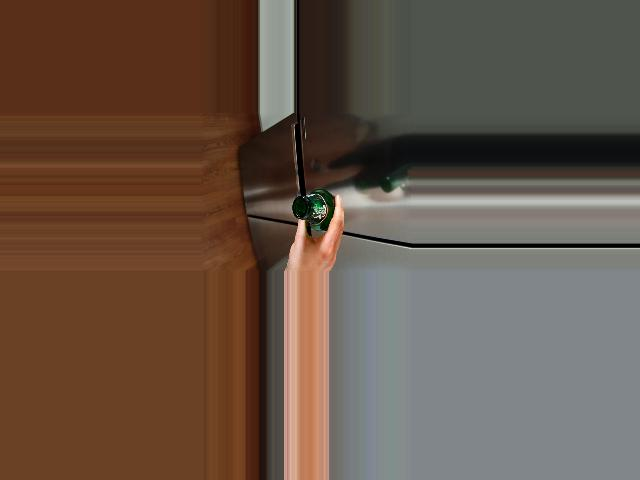beer: (292, 189, 334, 230)
